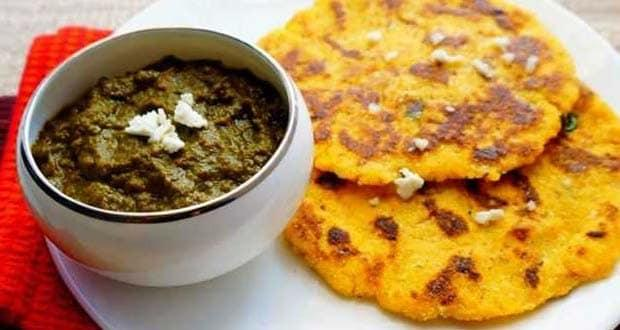saag: (35, 56, 288, 211)
